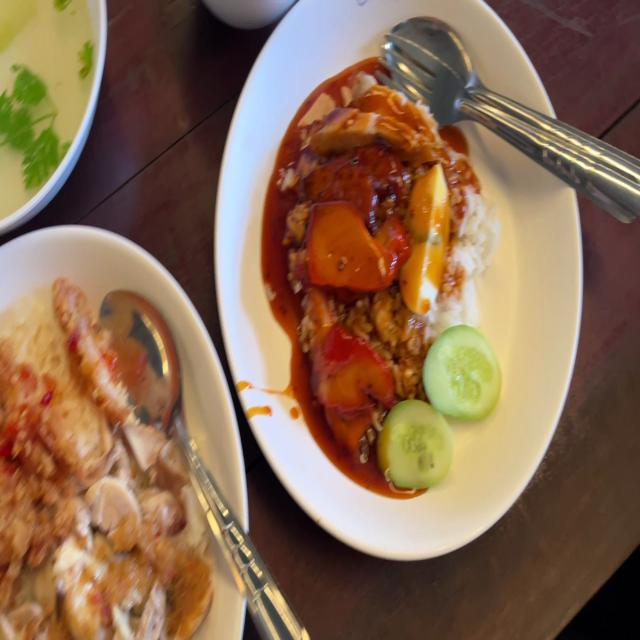01boiled_egg: (399, 163, 455, 322)
01chainese_sausage: (309, 150, 411, 224)
01crispy_pork: (302, 81, 448, 163)
01red_pork: (309, 326, 387, 455), (305, 198, 405, 287)
01red_pork_and_crispy_pork: (283, 76, 509, 492)
boiled_chicken: (62, 414, 206, 640)
chicken_rice: (0, 274, 213, 639)
cucumber: (425, 325, 501, 420), (381, 398, 453, 485)
fried_chicken: (0, 277, 130, 561)
